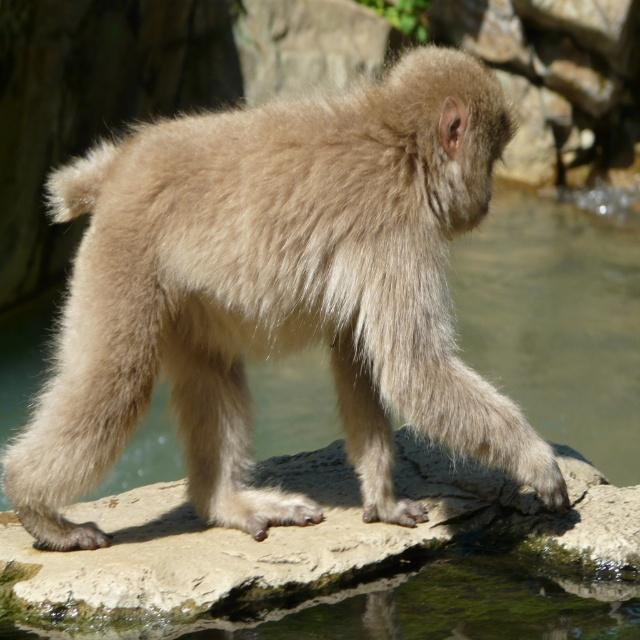Monkey: (3, 39, 591, 589)
